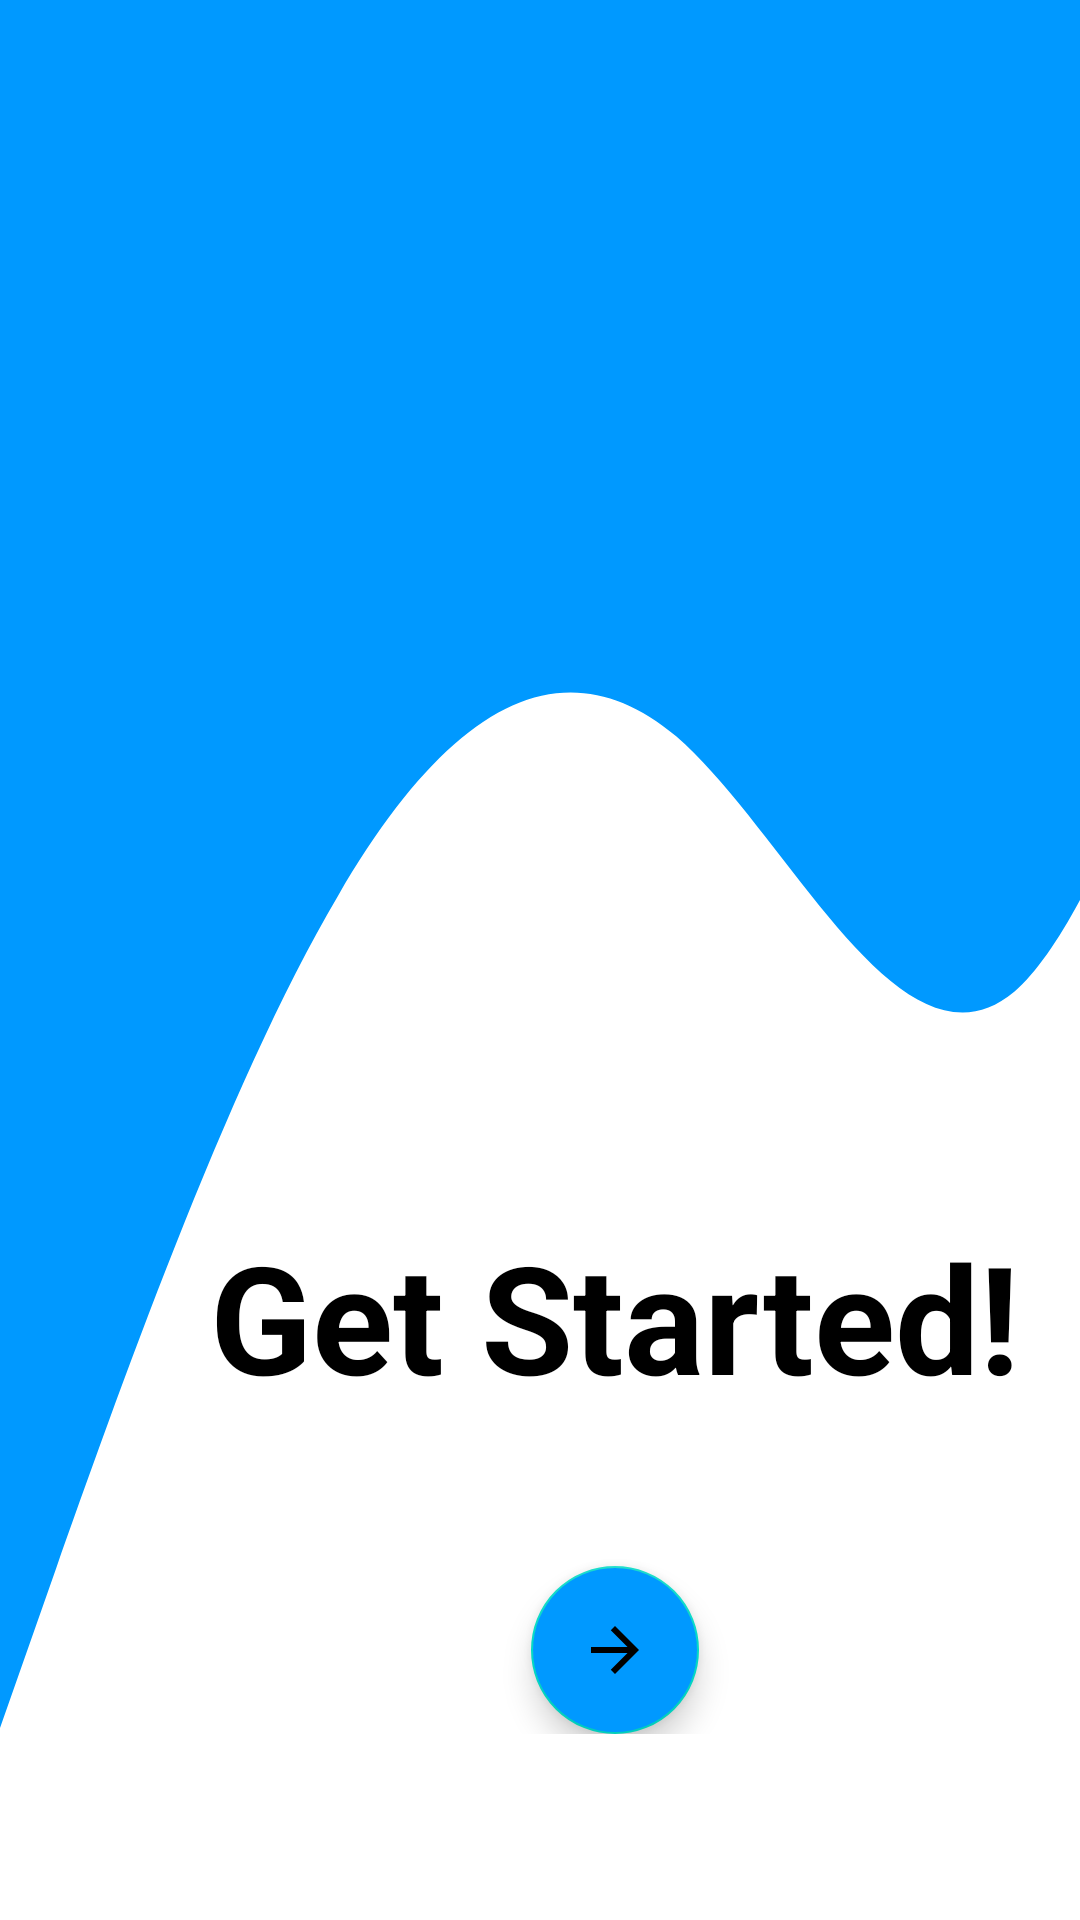

Screen size 1080 × 1920. Icon name, then its center in pixels as (x,y):
Next: (615,1650)
